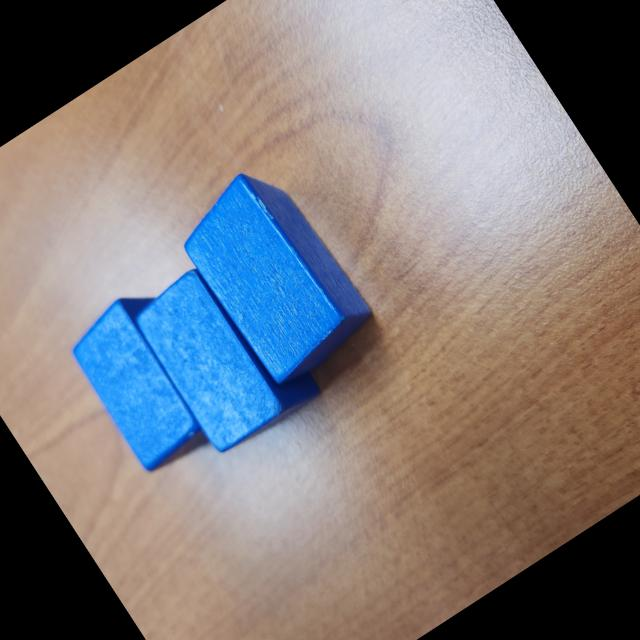blue: (166, 153, 386, 399), (123, 244, 324, 461), (56, 278, 238, 480)
